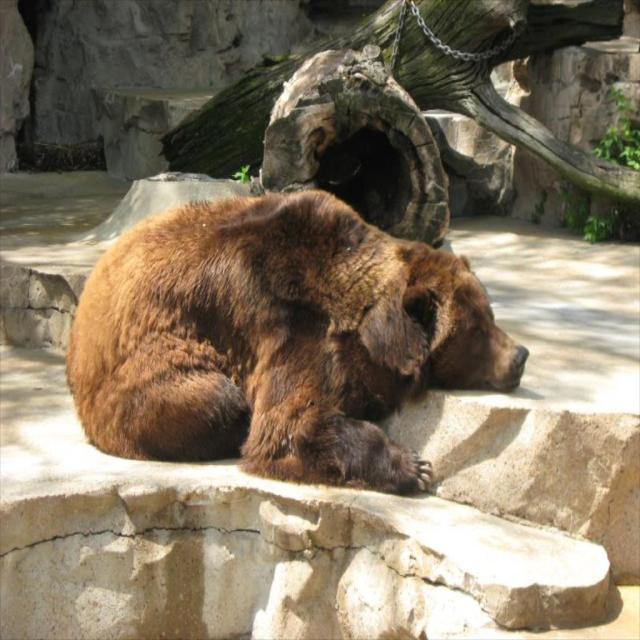Cheetahs: (62, 187, 531, 497)
